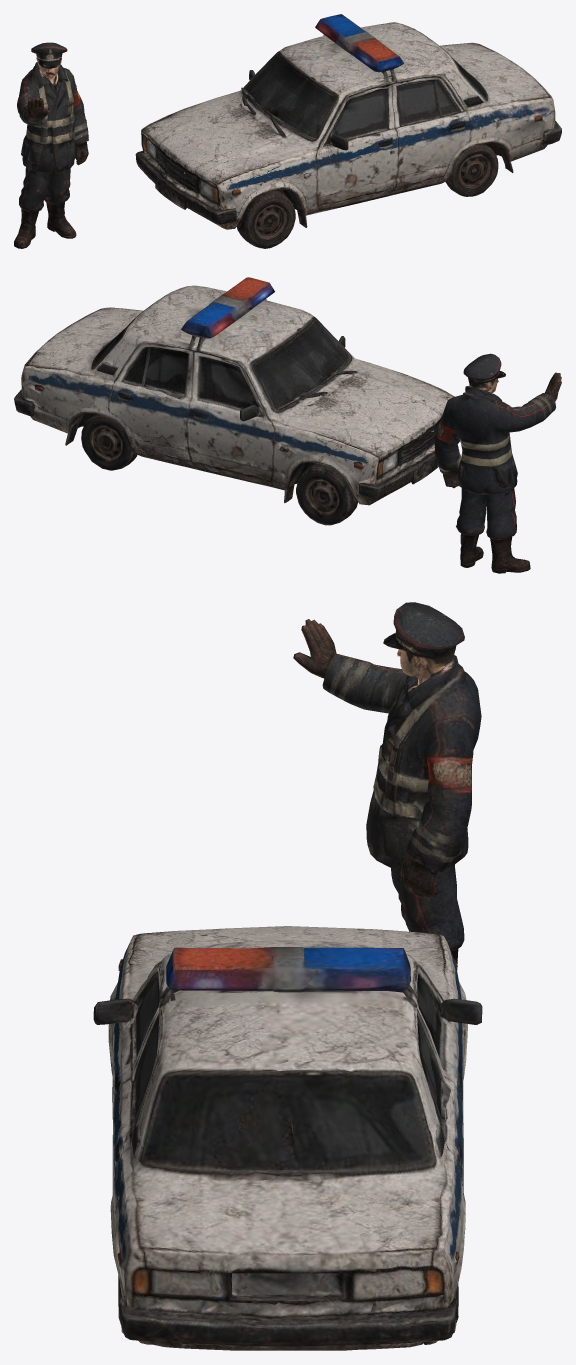
The model's file is post1.glb.
3 renders of one model, top to bottom at view 1: azimuth 30°, elevation 25°; view 2: azimuth 150°, elevation 25°; view 3: azimuth 270°, elevation 25°, orthographic. The views are drawn at different scales.
Size of the model in its own units: 190 by 71.8 by 65.05.
Materials: 1 (1 with a texture image).
